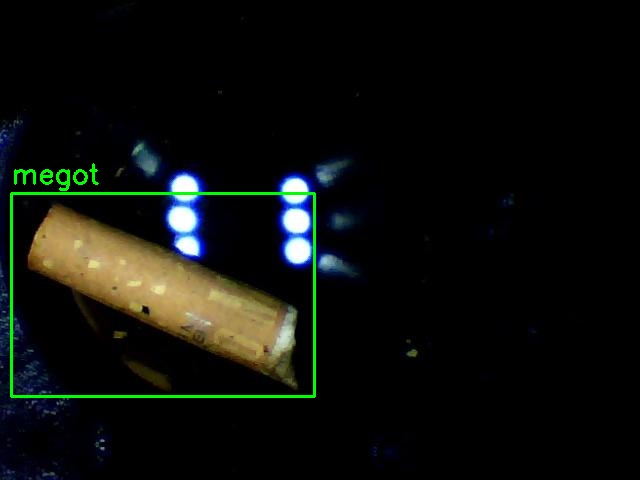megot: (11, 193, 314, 396)
